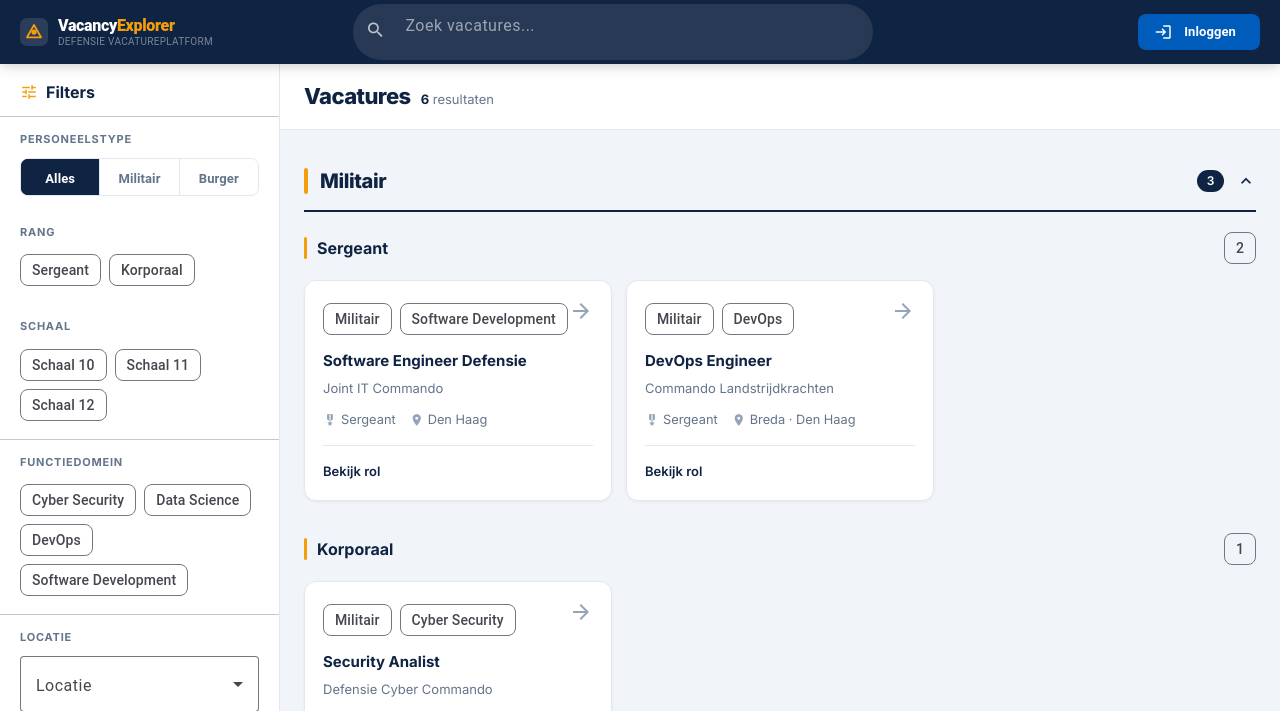
Vacancy overview – rendering › collapses and expands a section when its header is clicked
Expected: the element with test id "vacancy-card" that starts with "Militair" is shown, [304,280,612,501]
Click the button with test id "section-header" at x=353, y=181, box [304,154,1256,212]
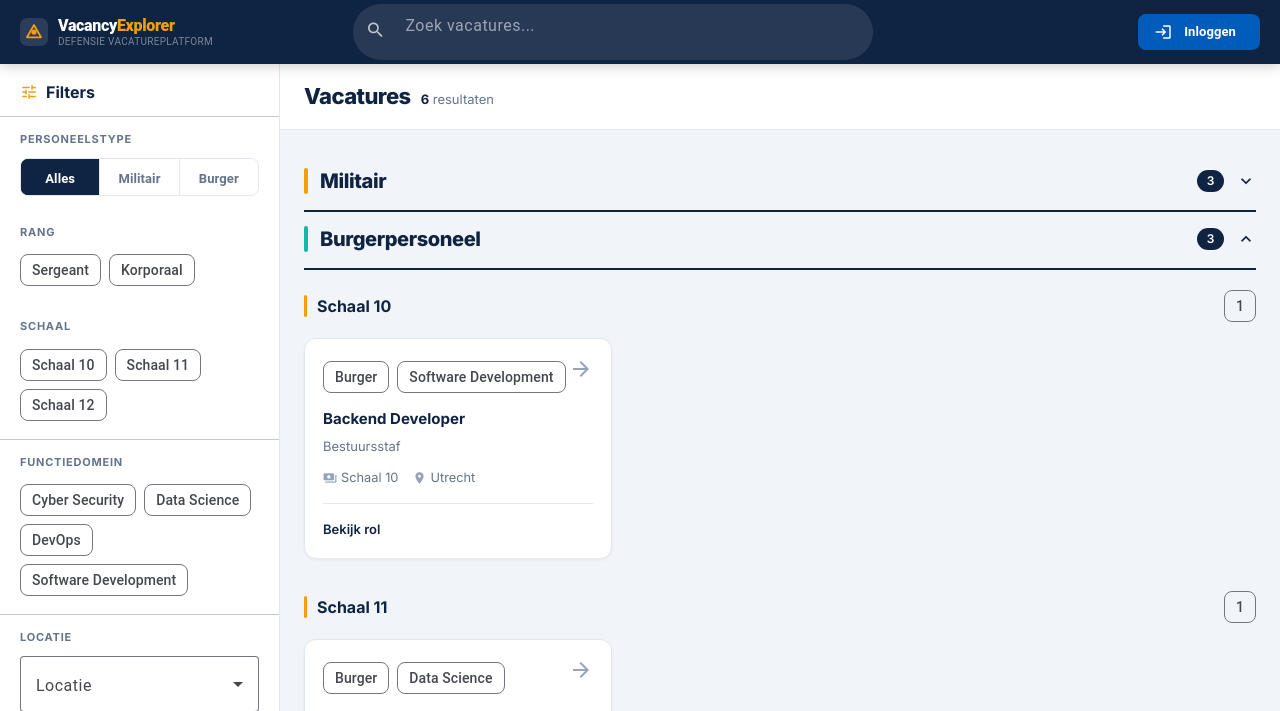
Now the number of elements with test id "vacancy-card" is 3
Click the button with test id "section-header" showing "Militair 3" at x=353, y=181, box [304,154,1256,212]
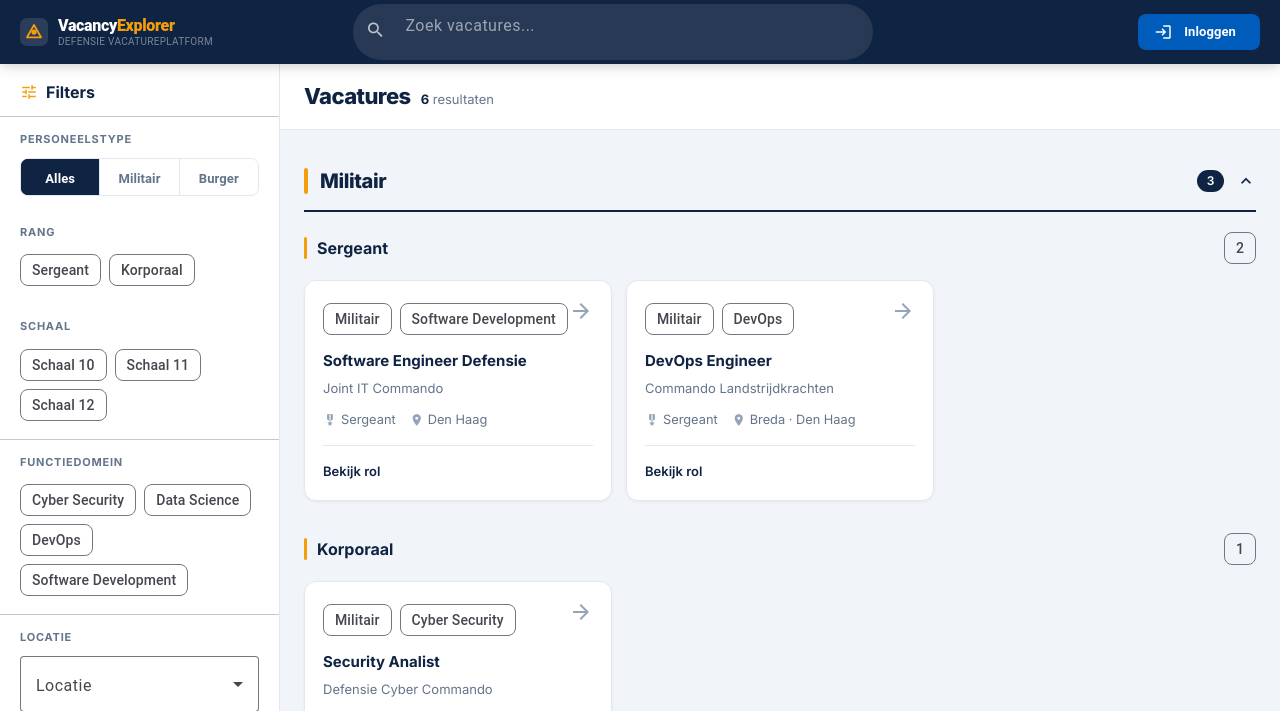
Now the number of elements with test id "vacancy-card" is 6
